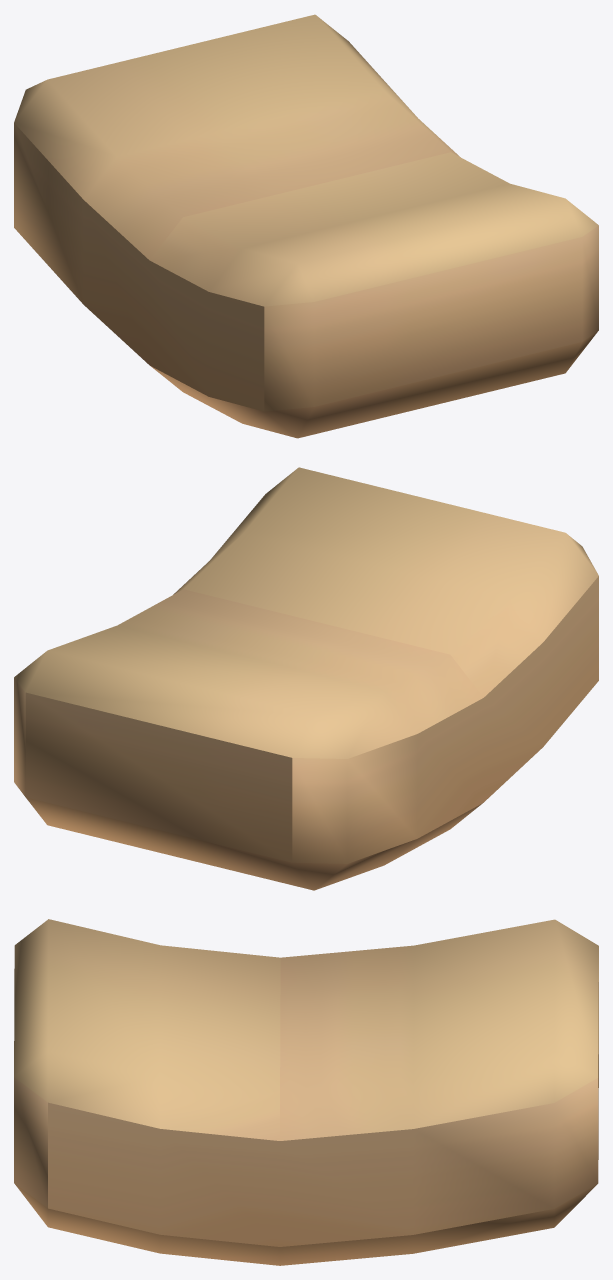
File: sack.glb
3 renders of one model, top to bottom at view 1: azimuth 30°, elevation 25°; view 2: azimuth 150°, elevation 25°; view 3: azimuth 270°, elevation 25°, orthographic.
Visible parts, largest first — view 1: sack; view 2: sack; view 3: sack.
Boxes of the visible parts, x1,y1,x2,y2 form: sack: [14, 14, 598, 438]; sack: [14, 467, 598, 890]; sack: [14, 919, 598, 1265].
Size of the model in its own units: 0.1065 by 0.0647 by 0.1595.
1 material, 1 textured.
